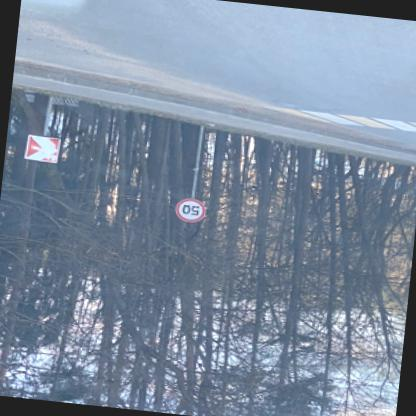speedlimit: (176, 198, 207, 223)
